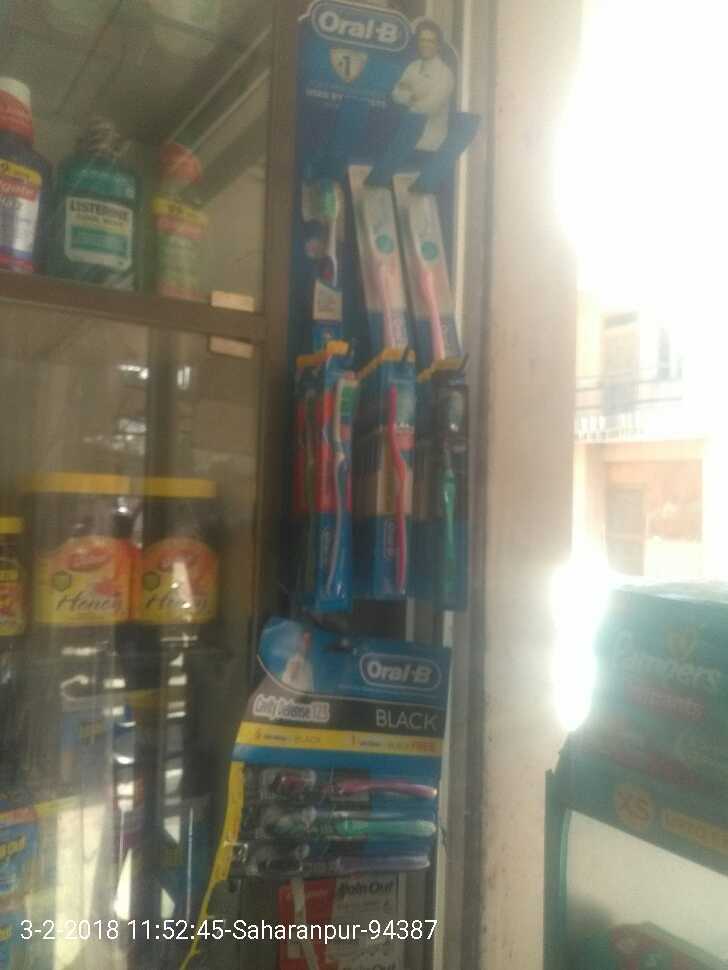pharmacy: (589, 584, 728, 788), (396, 169, 472, 363), (426, 383, 474, 637), (373, 367, 423, 601), (316, 358, 359, 601), (300, 146, 346, 347), (250, 804, 443, 848), (257, 767, 440, 807)
